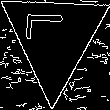L_E: (31, 22, 77, 54)
